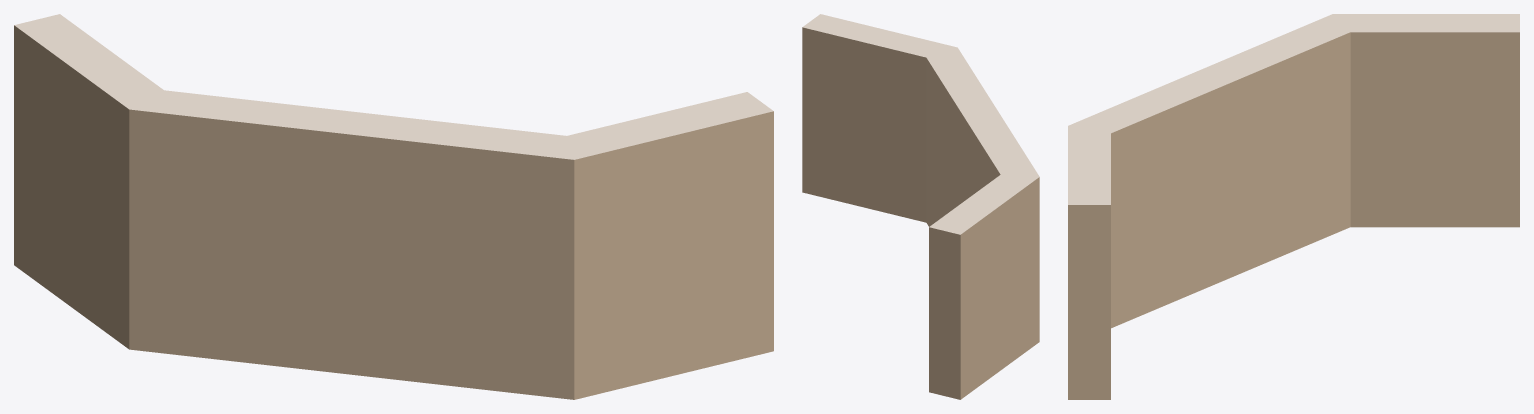
File: Wall_Curved_Large_Middle.fbx
3 renders of one model, left to right at view 1: azimuth 30°, elevation 25°; view 2: azimuth 150°, elevation 25°; view 3: azimuth 270°, elevation 25°, orthographic. The views are drawn at different scales.
Parts seen in each view (by area): view 1: Sandstone_Trim, object1; view 2: Sandstone_Trim, object1; view 3: Sandstone_Trim, object1.
Boxes of the visible parts, box(x1,y1,x2,y2) form: Sandstone_Trim: box(14, 25, 773, 399); object1: box(14, 14, 773, 159); Sandstone_Trim: box(802, 27, 1039, 399); object1: box(802, 14, 1039, 234); Sandstone_Trim: box(1068, 32, 1519, 399); object1: box(1068, 14, 1519, 204).
Bounding box in the file's own units: 2.1 × 1 × 2.1.
